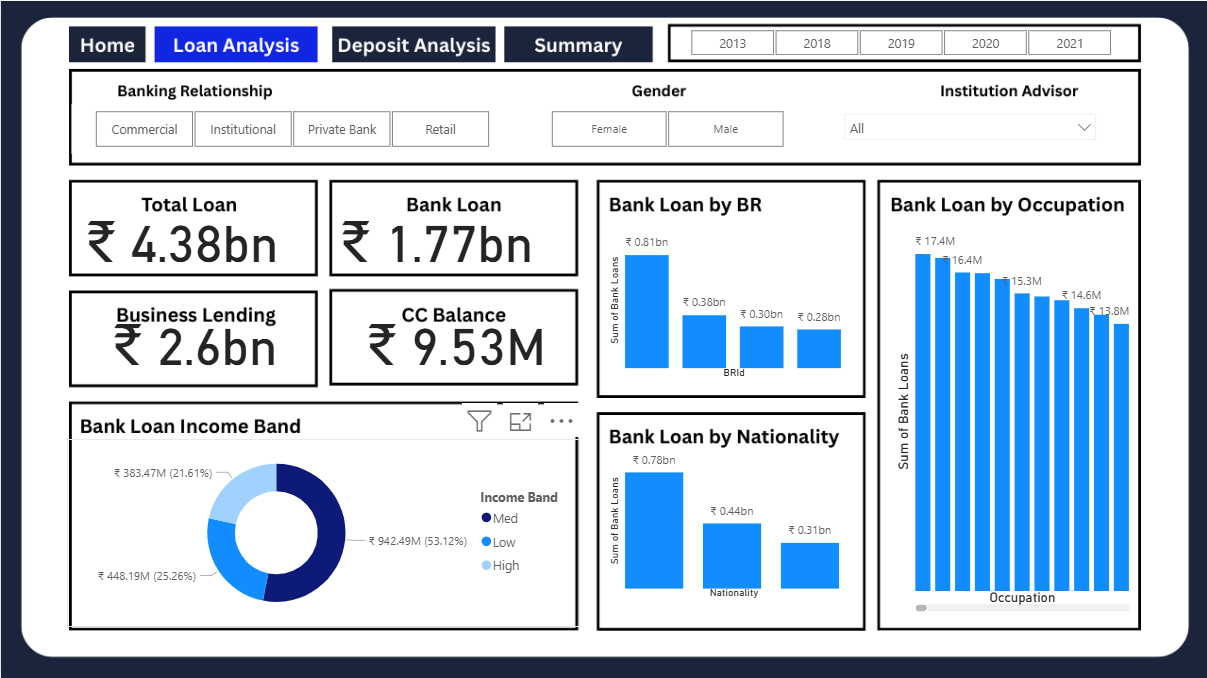

This screenshot's page, from the dashboard's own definition file:
{"tool":"powerbi","page":{"name":"Loan Analysis","canvas":[1280,720],"ordinal":1},"visuals":[{"type":"slicer","fields":{"Values":["banking_case customer.Year of Joining"]},"box":[706.7,23.3,495,40],"z":0},{"type":"actionButton","box":[70,23.3,85,40],"z":1000},{"type":"actionButton","box":[162.4,27.6,171.8,40],"z":2000},{"type":"actionButton","box":[351.8,27.6,174.7,40],"z":3000},{"type":"actionButton","box":[533.5,27.6,160.6,40],"z":4000},{"type":"card","fields":{"Values":["banking_case customer.Total Loan"]},"box":[75,206.7,233.3,86.7],"z":5000},{"type":"card","fields":{"Values":["Sum(banking_case customer.Bank Loans)"]},"box":[351.7,206.7,220,86.7],"z":6000},{"type":"card","fields":{"Values":["Sum(banking_case customer.Business Lending)"]},"box":[101.7,316.7,206.7,86.7],"z":7000},{"type":"card","fields":{"Values":["Sum(banking_case customer.Credit Card Balance)"]},"box":[378.3,316.7,206.7,86.7],"z":8000},{"type":"donutChart","fields":{"Category":["banking_case customer.Income Band"],"Y":["Sum(banking_case customer.Bank Loans)"]},"box":[70,465,543.3,198.3],"z":9000},{"type":"clusteredColumnChart","fields":{"Category":["banking_case customer.BRId"],"Y":["Sum(banking_case customer.Bank Loans)"]},"box":[640,230,258.3,173.3],"z":10000},{"type":"clusteredColumnChart","fields":{"Category":["banking_case customer.Nationality"],"Y":["Sum(banking_case customer.Bank Loans)"]},"box":[640,465,258.3,173.3],"z":11000},{"type":"columnChart","fields":{"Category":["banking_case customer.Occupation"],"Y":["Sum(banking_case customer.Bank Loans)"]},"box":[943.3,230,258.3,421.7],"z":12000},{"type":"slicer","fields":{"Values":["banking_case customer.BRId"]},"box":[75,110,466.7,51.7],"z":13000},{"type":"slicer","fields":{"Values":["banking_case customer.GenderId"]},"box":[558.3,110,295,51.7],"z":14000},{"type":"slicer","fields":{"Values":["banking_case customer.IAId"]},"box":[885,110,286.7,51.7],"z":15000}]}

Visuals, with their boxes in screenshot pixels (x1, y1, x2, y2), scaled from the page's 1280x720 canvas onto the 1207x678 screenshot:
slicer - banking_case customer.Year of Joining: 666,22,1133,60
actionButton: 66,22,146,60
actionButton: 153,26,315,64
actionButton: 332,26,496,64
actionButton: 503,26,655,64
card - banking_case customer.Total Loan: 71,195,291,276
card - Sum(banking_case customer.Bank Loans): 332,195,539,276
card - Sum(banking_case customer.Business Lending): 96,298,291,380
card - Sum(banking_case customer.Credit Card Balance): 357,298,552,380
donutChart - banking_case customer.Income Band x Sum(banking_case customer.Bank Loans): 66,438,578,625
clusteredColumnChart - banking_case customer.BRId x Sum(banking_case customer.Bank Loans): 604,217,847,380
clusteredColumnChart - banking_case customer.Nationality x Sum(banking_case customer.Bank Loans): 604,438,847,601
columnChart - banking_case customer.Occupation x Sum(banking_case customer.Bank Loans): 890,217,1133,614
slicer - banking_case customer.BRId: 71,104,511,152
slicer - banking_case customer.GenderId: 526,104,805,152
slicer - banking_case customer.IAId: 835,104,1105,152
